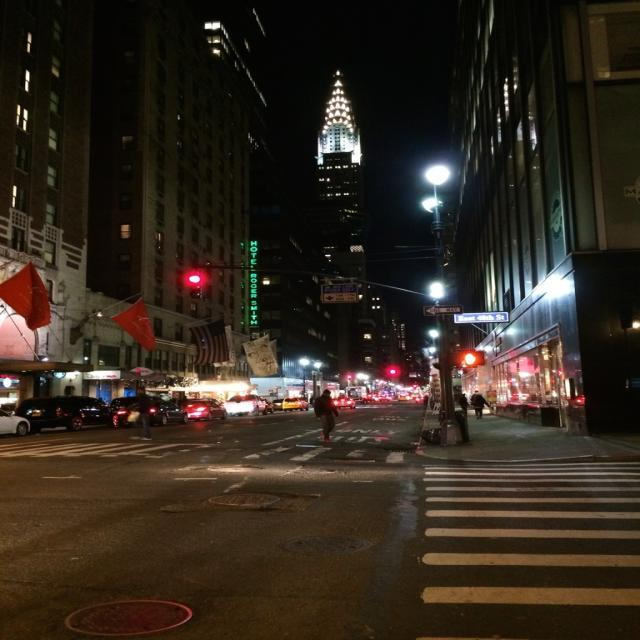traffic light: (189, 274, 203, 301)
